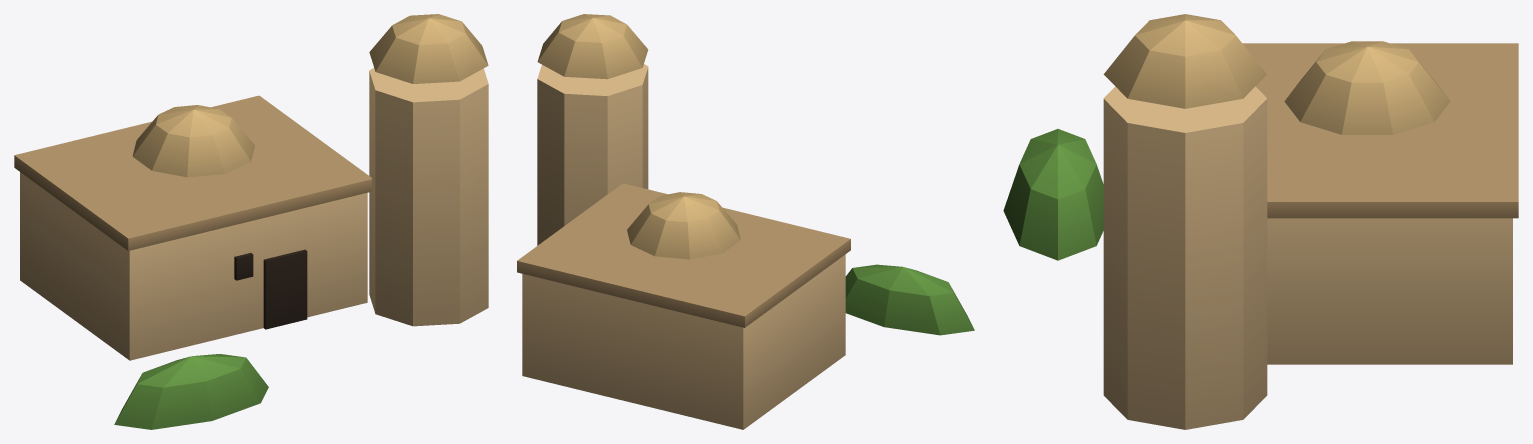
File: SPY_MA.glb
The picture shows the model from 3 angles, left to right: view 1: azimuth 30°, elevation 25°; view 2: azimuth 150°, elevation 25°; view 3: azimuth 270°, elevation 25°; orthographic projection. The views are drawn at different scales.
Visible parts, largest first — view 1: Body; view 2: Body; view 3: Body.
Boxes of the visible parts, box(x1,y1,x2,y2) form: Body: box(14, 14, 488, 429); Body: box(517, 14, 974, 429); Body: box(1003, 14, 1518, 429).
Size of the model in its own units: 3.5 by 2.27 by 2.83.
Materials: 1 (1 with a texture image).
